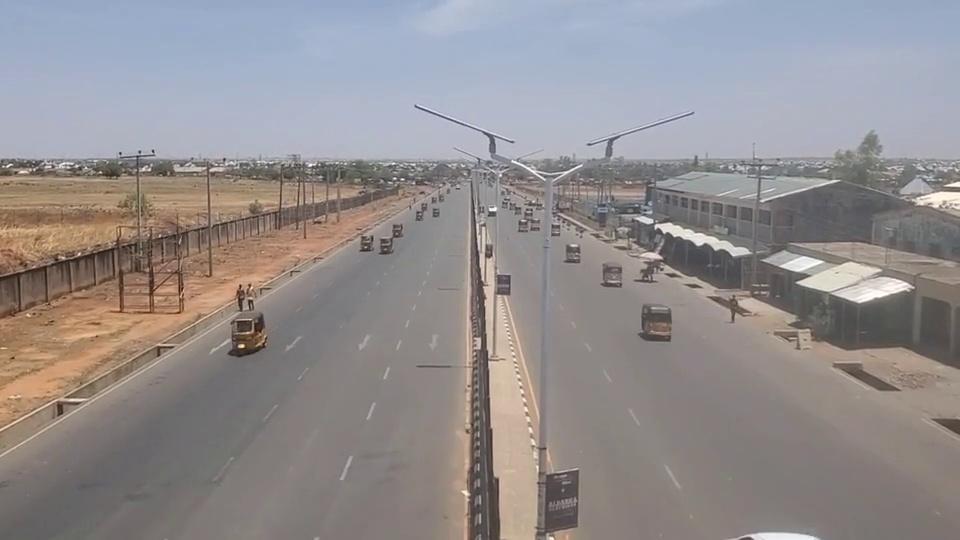keke: (229, 310, 267, 355), (640, 302, 672, 340), (602, 261, 623, 286), (565, 243, 581, 262), (379, 236, 393, 254), (360, 234, 374, 251), (392, 223, 403, 237), (415, 210, 424, 221), (432, 207, 440, 217)
